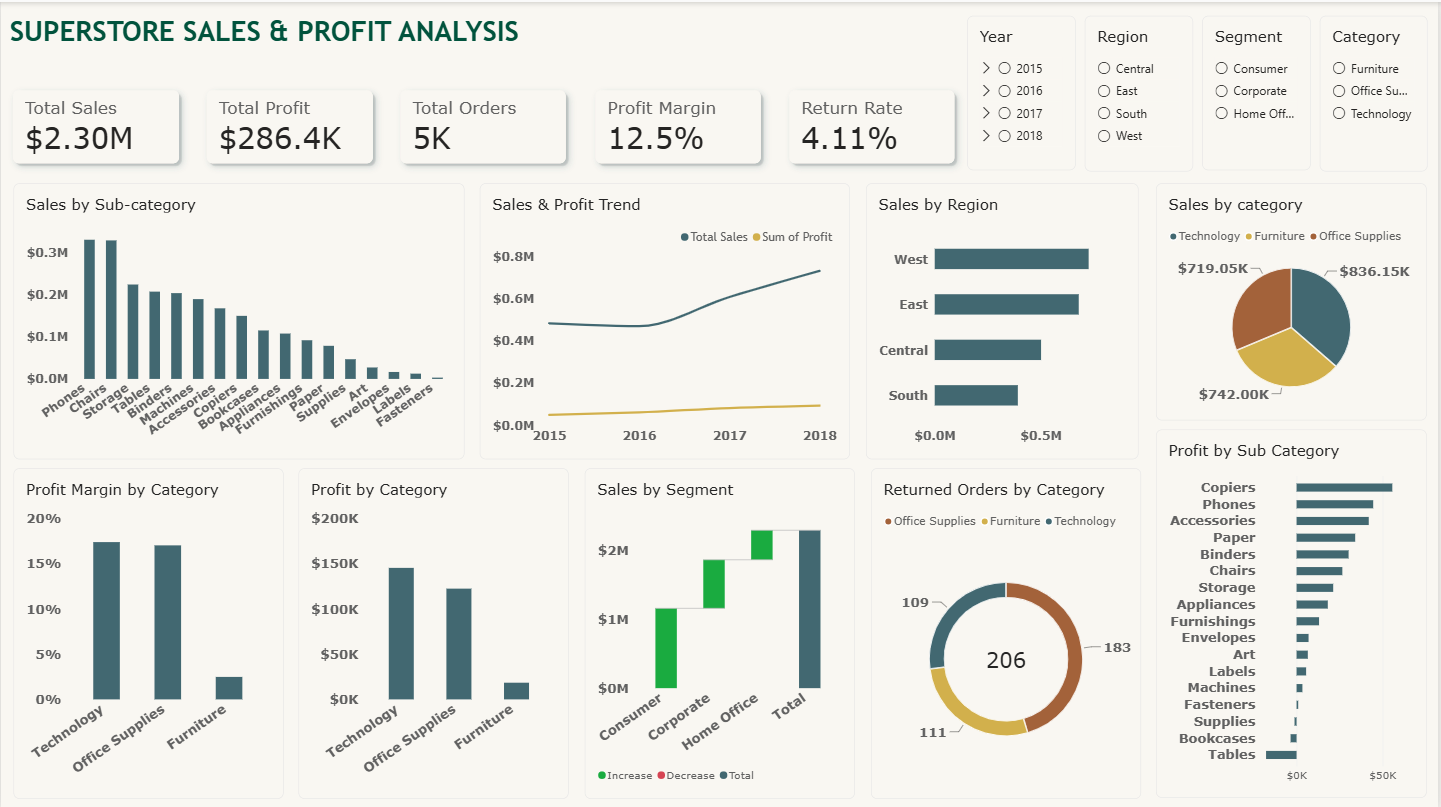

The dashboard page shown, as its layout file describes it:
{"tool":"powerbi","page":{"name":"Dashboard","canvas":[1920,1080],"ordinal":0},"visuals":[{"type":"textbox","box":[10.9,16.3,731.1,74.2],"z":0},{"type":"cardVisual","title":"Total Sales","fields":{"Data":["Orders.total sales"]},"box":[0,101.6,254,130],"z":1000},{"type":"cardVisual","fields":{"Data":["Orders.total orders"]},"box":[518.4,101.7,253.8,130],"z":2000},{"type":"cardVisual","fields":{"Data":["Orders.profit margin"]},"box":[777.7,101.9,253.8,130],"z":3000},{"type":"cardVisual","fields":{"Data":["Orders.total profit"]},"box":[258.9,101.3,254,130],"z":4000},{"type":"cardVisual","fields":{"Data":["Orders.Return Rate"]},"box":[1036.9,101.5,253.8,130],"z":5000},{"type":"lineChart","title":"Sales & Profit Trend","fields":{"Category":["Orders.Order Date.Variation.Date Hierarchy.Year","Orders.Order Date.Variation.Date Hierarchy.Quarter","Orders.Order Date.Variation.Date Hierarchy.Month","Orders.Order Date.Variation.Date Hierarchy.Day"],"Y":["Orders.Total Sales","Sum(Orders.Profit)"]},"box":[640,242.5,494,369.2],"z":6000},{"type":"pieChart","title":"Sales by category","fields":{"Category":["Orders.Category"],"Y":["Orders.Total Sales"]},"box":[1543.6,242.5,361.9,316.7],"z":7000},{"type":"clusteredColumnChart","title":"Sales by Sub-category","fields":{"Category":["Orders.Sub-Category"],"Y":["Orders.Total Sales"]},"box":[16.3,242.4,602.6,369.2],"z":8000},{"type":"clusteredBarChart","title":"Sales by Region","fields":{"Category":["Orders.Region"],"Y":["Orders.Total Sales"]},"box":[1155.2,242.5,363.7,369.2],"z":9000},{"type":"waterfallChart","title":"Sales by Segment ","fields":{"Category":["Orders.Segment"],"Y":["Orders.Total Sales"]},"box":[780,622.5,361,441.6],"z":10000},{"type":"donutChart","title":"Returned Orders by Category","fields":{"Category":["Orders.Category"],"Y":["Orders.Returned Orders"]},"box":[1161.8,622.5,361,441.6],"z":11000},{"type":"clusteredColumnChart","title":"Profit by Category","fields":{"Category":["Orders.Category"],"Y":["Orders.Total Profit"]},"box":[398.1,622.5,361,441.6],"z":12000},{"type":"clusteredBarChart","title":"Profit by Sub Category","fields":{"Category":["Orders.Sub-Category"],"Y":["Orders.Total Profit"]},"box":[1543.6,571.9,361.9,492.2],"z":13000},{"type":"clusteredColumnChart","title":"Profit Margin by Category","fields":{"Category":["Orders.Category"],"Y":["Orders.Profit Margin"]},"box":[16.3,622.5,361,441.6],"z":14000},{"type":"listSlicer","fields":{"Values":["Orders.Order Date.Variation.Date Hierarchy.Year","Orders.Order Date.Variation.Date Hierarchy.Quarter","Orders.Order Date.Variation.Date Hierarchy.Month","Orders.Order Date.Variation.Date Hierarchy.Day"]},"box":[1290.3,18.1,144.8,206.3],"z":15000},{"type":"listSlicer","fields":{"Values":["Orders.Region"]},"box":[1447.7,18.1,144.8,208.1],"z":16000},{"type":"listSlicer","fields":{"Values":["Orders.Segment"]},"box":[1605.2,18.1,144.8,206.3],"z":17000},{"type":"listSlicer","fields":{"Values":["Orders.Category"]},"box":[1761.9,18.5,144.1,207.9],"z":18000}]}

Visuals, with their boxes in screenshot pixels (x1, y1, x2, y2), scaled from the page's 1920x1080 canvas onto the 1441x807 screenshot:
textbox: x1=8 y1=12 x2=557 y2=68
"Total Sales" cardVisual: x1=0 y1=76 x2=191 y2=173
cardVisual - Orders.total orders: x1=389 y1=76 x2=580 y2=173
cardVisual - Orders.profit margin: x1=584 y1=76 x2=774 y2=173
cardVisual - Orders.total profit: x1=194 y1=76 x2=385 y2=173
cardVisual - Orders.Return Rate: x1=778 y1=76 x2=969 y2=173
"Sales & Profit Trend" lineChart: x1=480 y1=181 x2=851 y2=457
"Sales by category" pieChart: x1=1159 y1=181 x2=1430 y2=418
"Sales by Sub-category" clusteredColumnChart: x1=12 y1=181 x2=464 y2=457
"Sales by Region" clusteredBarChart: x1=867 y1=181 x2=1140 y2=457
"Sales by Segment " waterfallChart: x1=585 y1=465 x2=856 y2=795
"Returned Orders by Category" donutChart: x1=872 y1=465 x2=1143 y2=795
"Profit by Category" clusteredColumnChart: x1=299 y1=465 x2=570 y2=795
"Profit by Sub Category" clusteredBarChart: x1=1159 y1=427 x2=1430 y2=795
"Profit Margin by Category" clusteredColumnChart: x1=12 y1=465 x2=283 y2=795
listSlicer - Orders.Order Date.Variation.Date Hierarchy.Year x Orders.Order Date.Variation.Date Hierarchy.Quarter: x1=968 y1=14 x2=1077 y2=168
listSlicer - Orders.Region: x1=1087 y1=14 x2=1195 y2=169
listSlicer - Orders.Segment: x1=1205 y1=14 x2=1313 y2=168
listSlicer - Orders.Category: x1=1322 y1=14 x2=1430 y2=169
